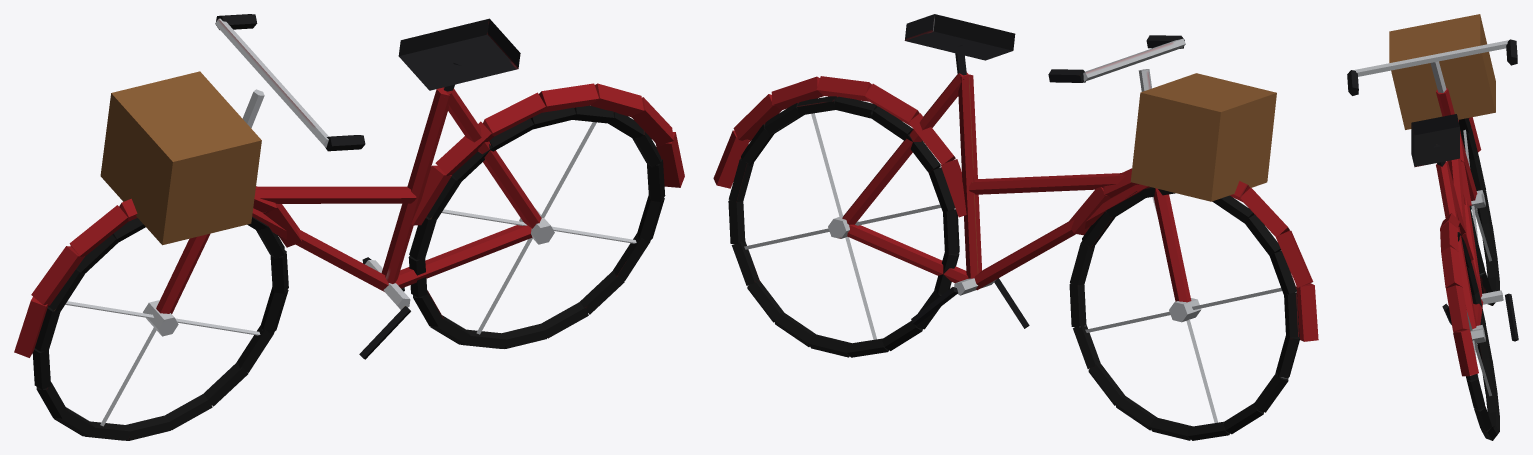
Rendered from kolo_4018d096.glb.
3 views of the same model, side by side, from view 1: azimuth 30°, elevation 25°; view 2: azimuth 150°, elevation 25°; view 3: azimuth 270°, elevation 25° (orthographic). The views are drawn at different scales.
Visible parts, largest first — view 1: dum; view 2: dum; view 3: dum.
Boxes of the visible parts, box(x1,y1,x2,y2) form: dum: box(14, 14, 684, 440); dum: box(713, 14, 1318, 440); dum: box(1347, 14, 1518, 440).
Size of the model in its own units: 1.95 by 1.09 by 0.5905.
Materials: 1 (1 with a texture image).
